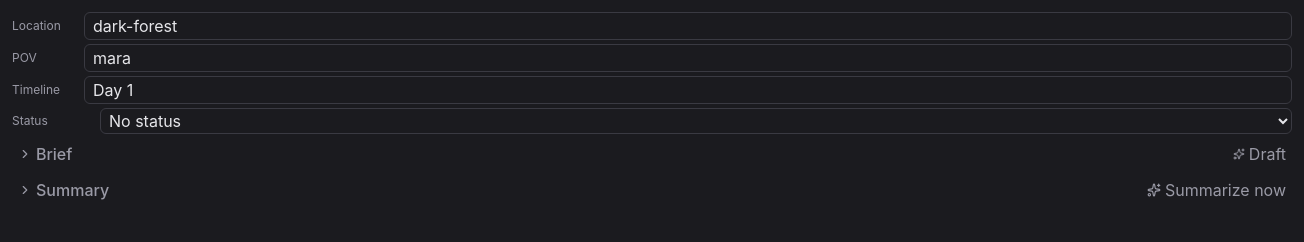
it: MetadataPane summary (F-5.6) › shows a failed run with its next step
Click the button "Summary": x=64, y=190 [12,174,115,206]
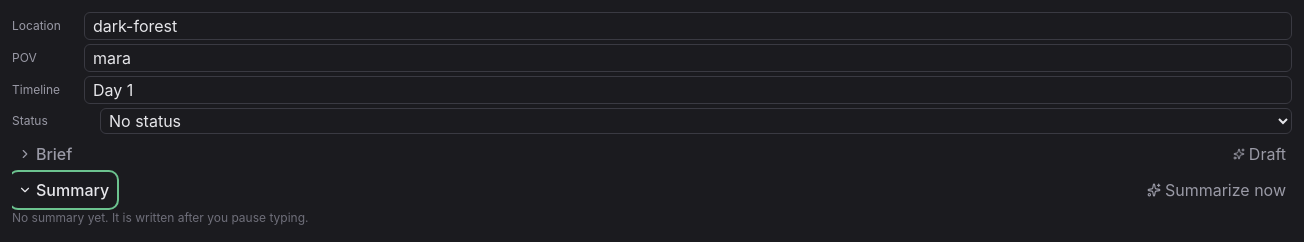
Click the button with test id "summary-refresh": x=1216, y=190 [1141,174,1292,206]
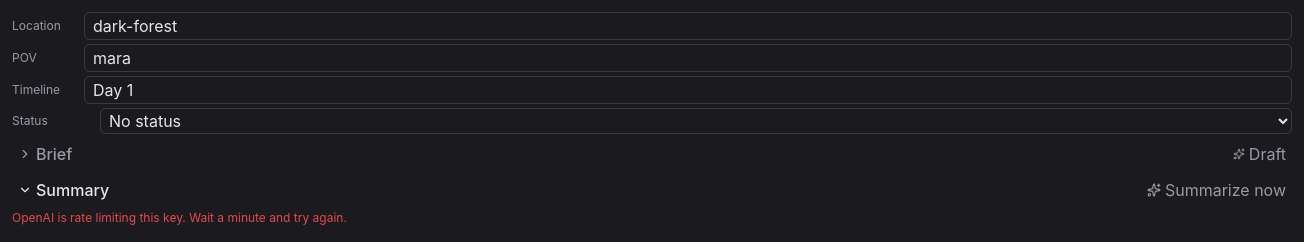
Now the message with test id "summary-error" reads "OpenAI is rate limiting this key. Wait a minute and try again.", box [12,210,347,225]
